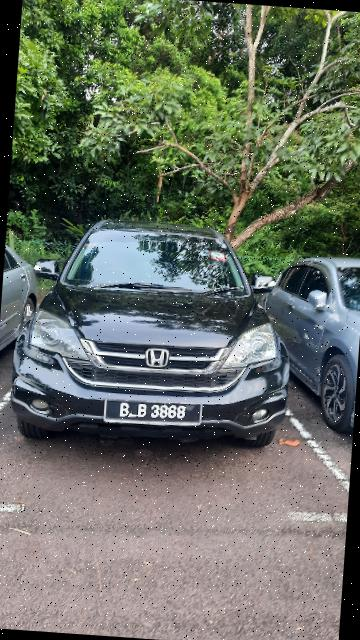License_Plate: (99, 395, 203, 436)
car: (4, 207, 300, 463)
